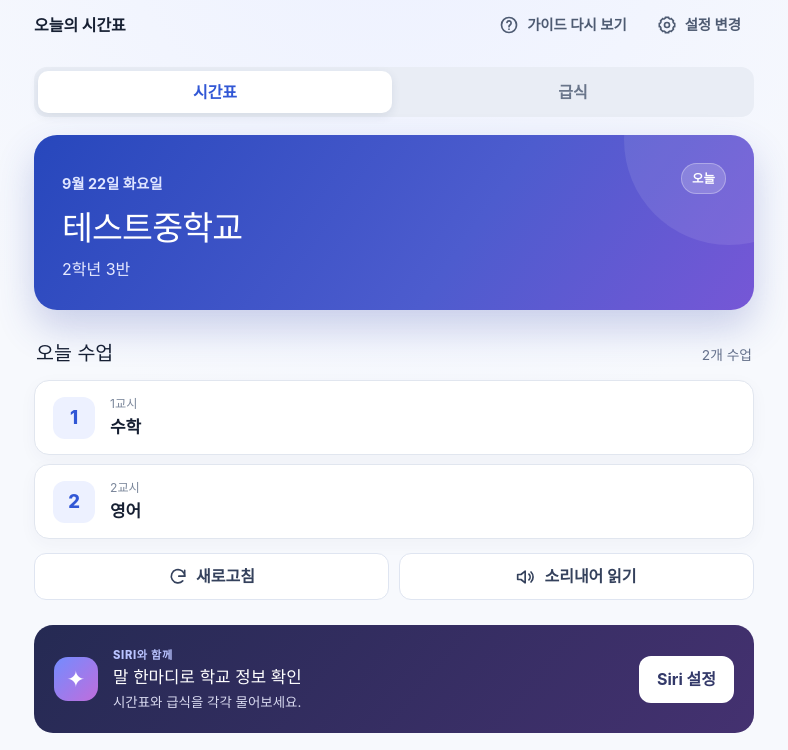
Scenario: HomePage › uses the same saved school when switching from timetable to meals
Check: the text "수학" is shown, box [110,414,141,440]
Click the button "급식".
click(573, 92)  # box [396,71,750,113]
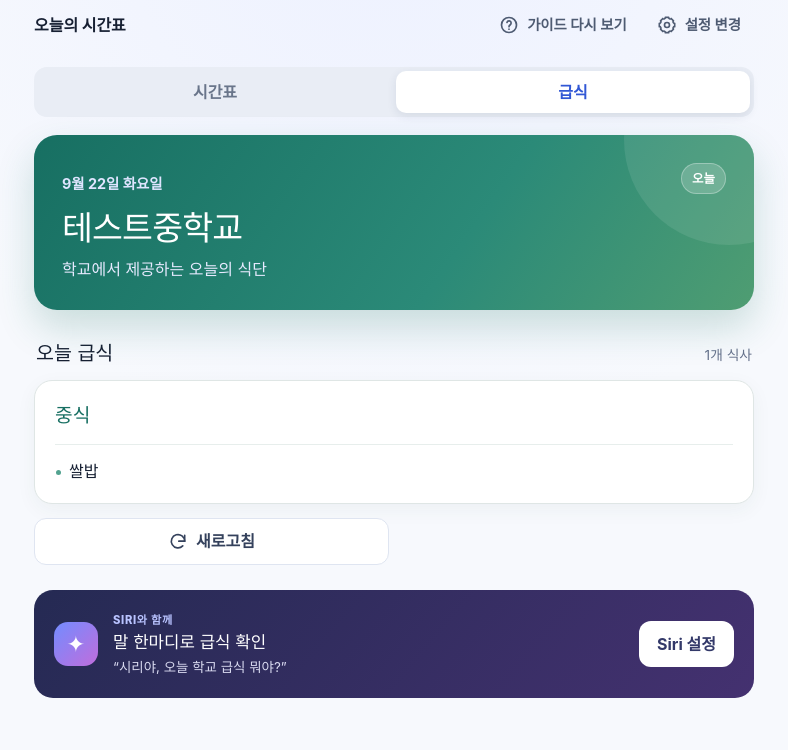
Check: the heading "중식" is shown, box [55,403,90,427]
